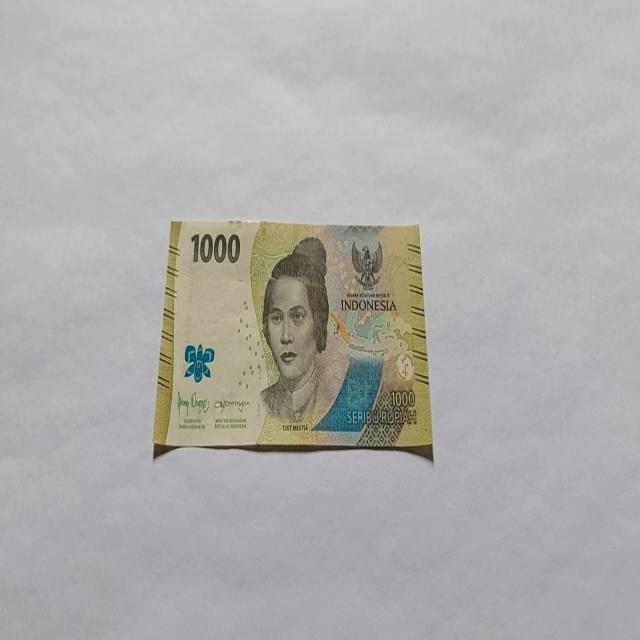seribu rupiah kertas: (152, 217, 433, 460)
